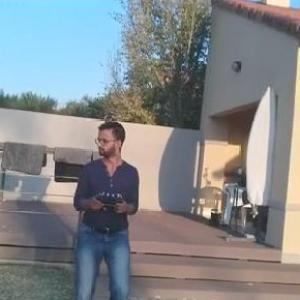follow: (67, 118, 144, 299)
